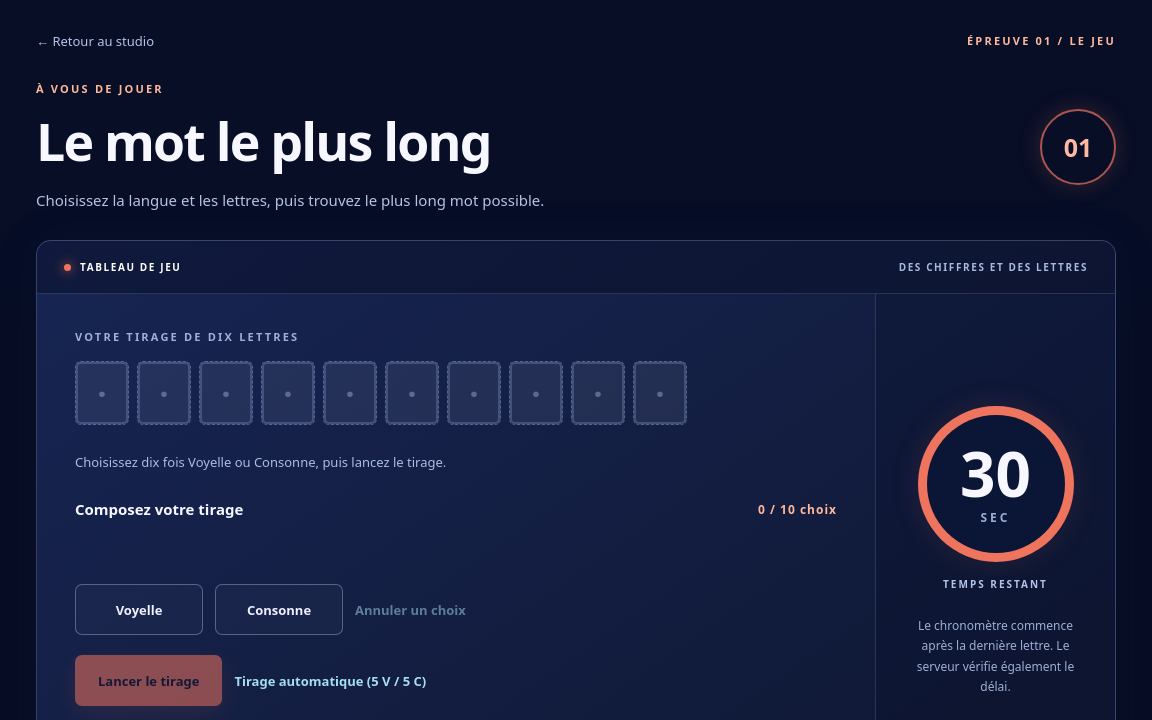
the player can undo the last choice
Click the button "Voyelle" at (139, 610), box [75,584,203,635]
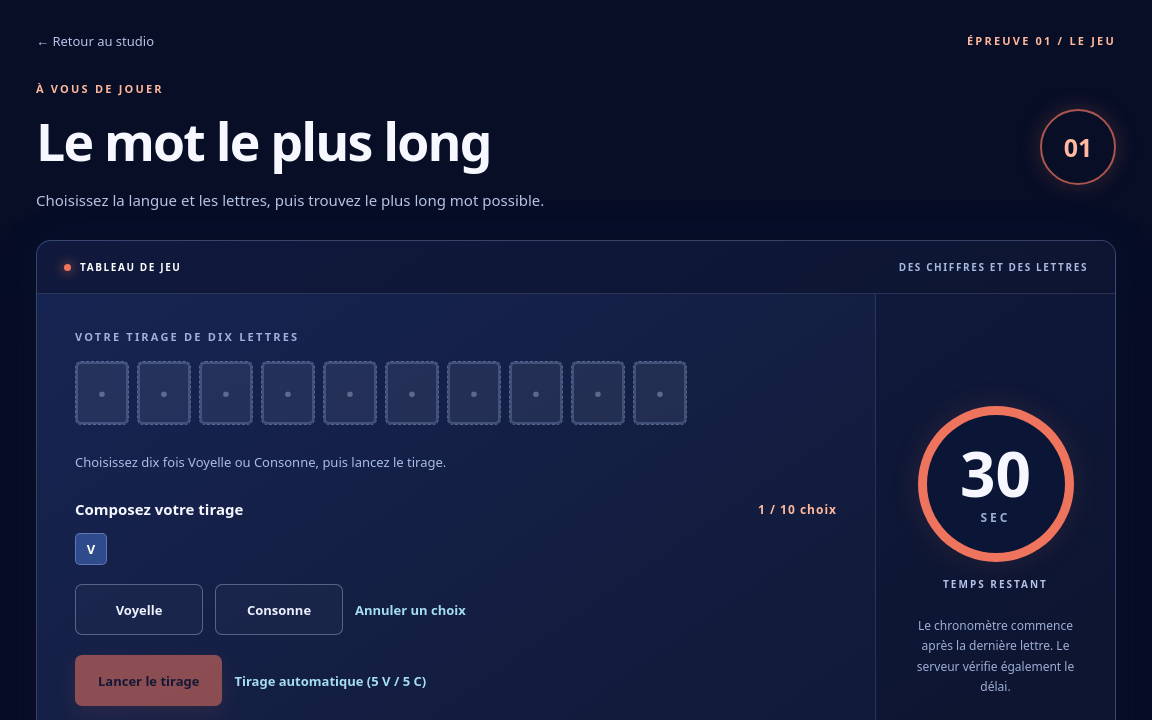
Now the text "1 / 10 choix" is shown, box [758,501,837,518]
Click the button "Annuler un choix" at (410, 610), box [355,601,466,619]
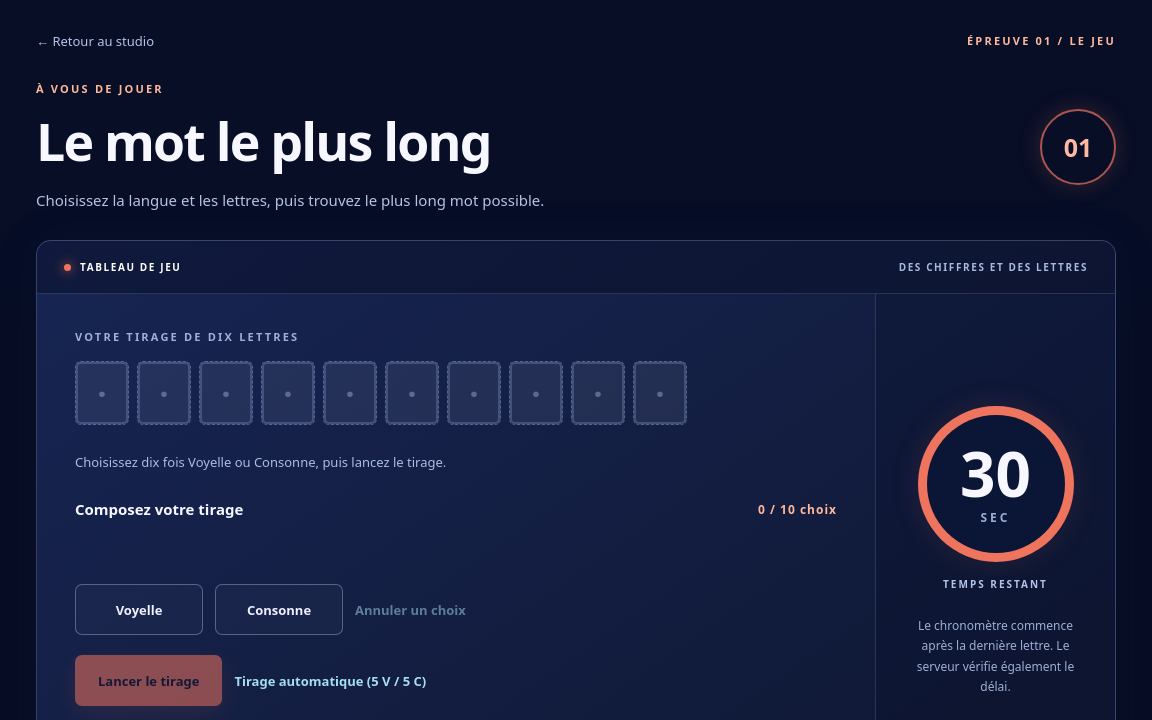
Now the text "0 / 10 choix" is shown, box [758,501,837,518]
